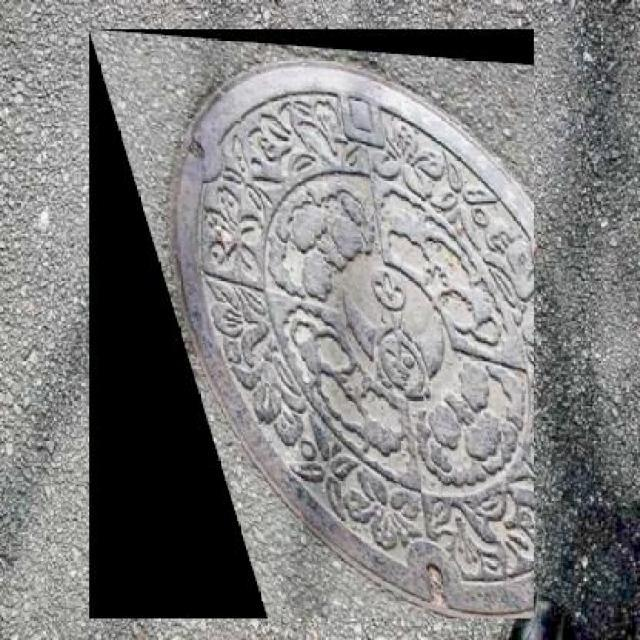Manhole: (89, 29, 534, 618)
